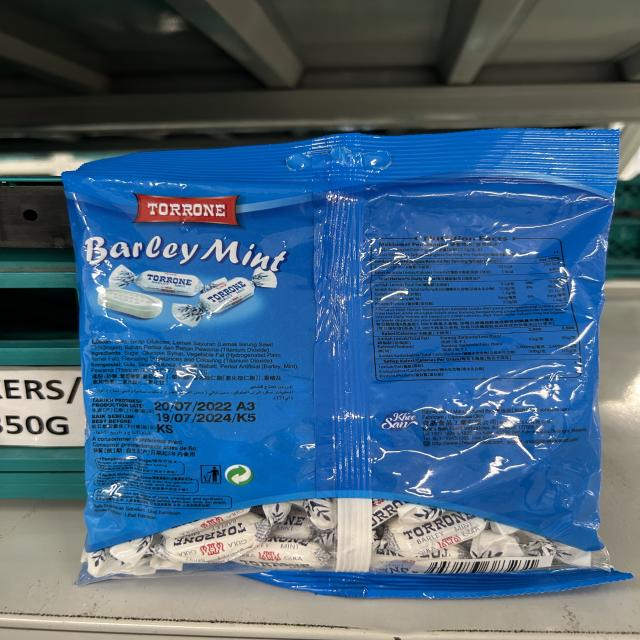object_name: (74, 148, 610, 585)
